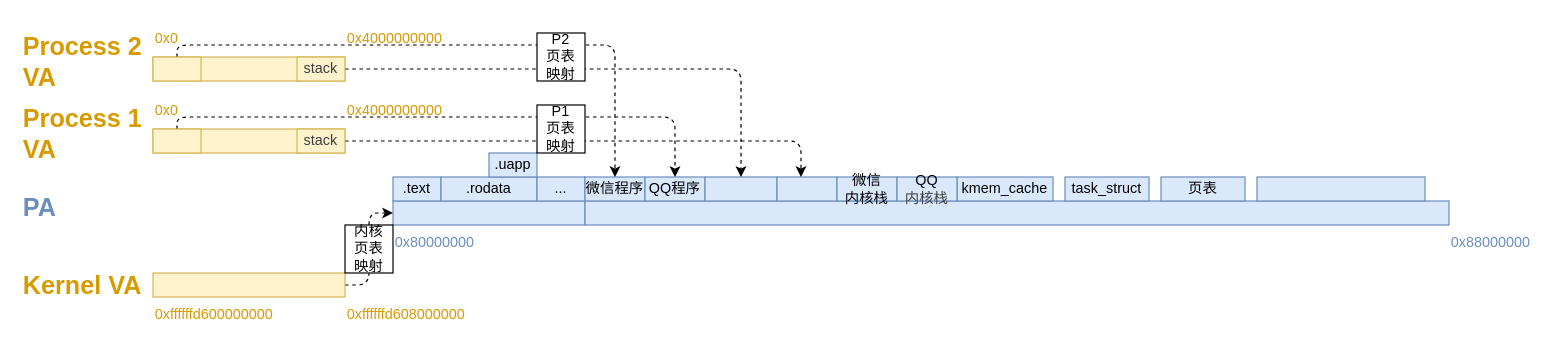
Image size: 1565x353. Some labels were removed from this diagram. The shapes that lost their labels are listed below. From the top down, each one's centre as x and y in pixels, then its label:
At (x=176, y=68): "微信".
At (x=176, y=140): "QQ".
At (x=740, y=188): "微信 用户栈".
At (x=806, y=188): "QQ 用户栈".
At (x=1340, y=188): "...各种动态分配的东西".
At (x=488, y=212): "kernel".
At (x=1016, y=212): "buddy system managed".
